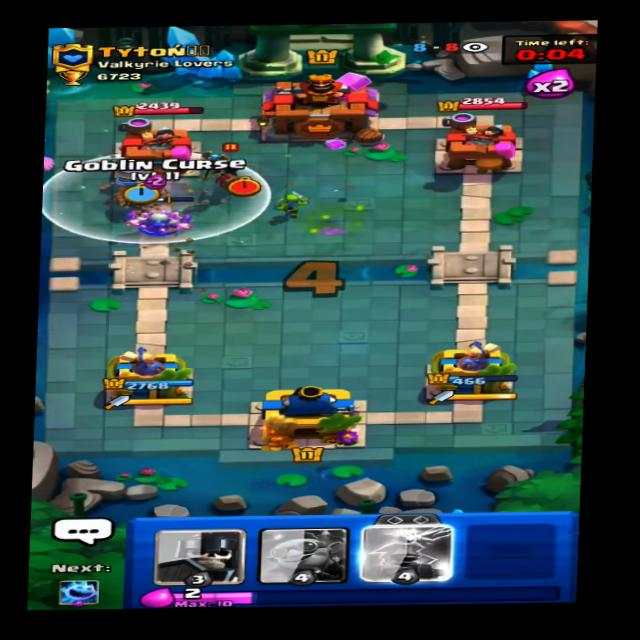Nightwitch: (205, 140, 259, 193)
